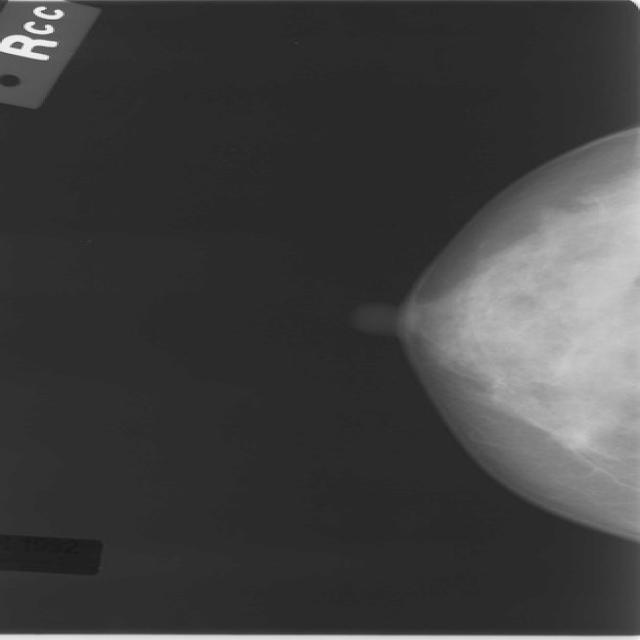tumour: (538, 418, 601, 456)
